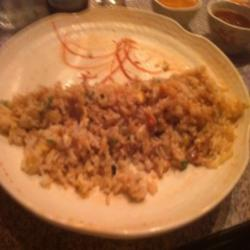rice: (5, 71, 250, 193)
